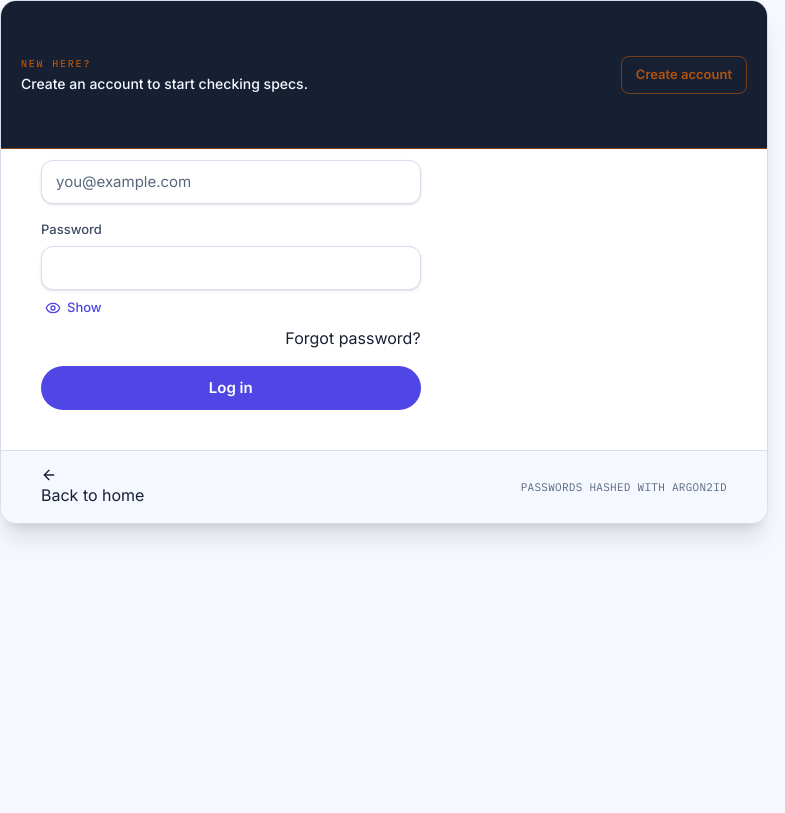
Test case: AuthCard › swaps instantly under reduced motion
Expected: the form "Log in" is shown, [41,134,421,410]
Click the button "Create account": (684, 75) [621,56,747,94]
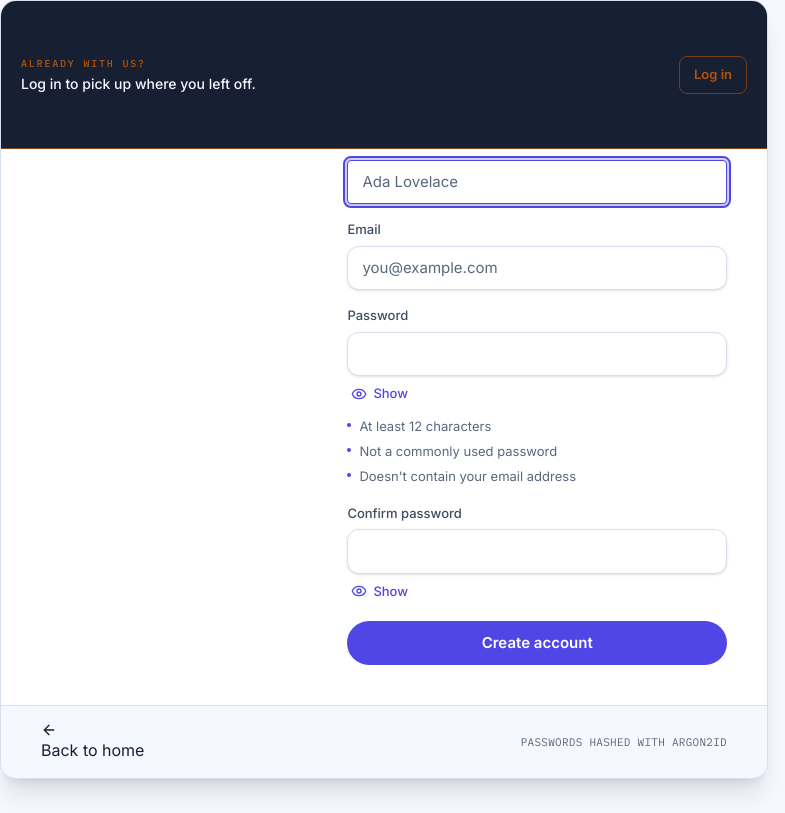
Expected: the form named "Create account" is shown, [347,134,727,665]
